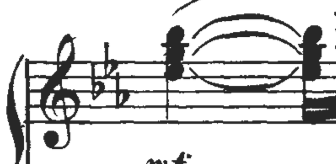flat: (111, 66, 132, 114), (86, 62, 106, 105), (100, 38, 120, 80)
treble_clef: (37, 28, 85, 157)
